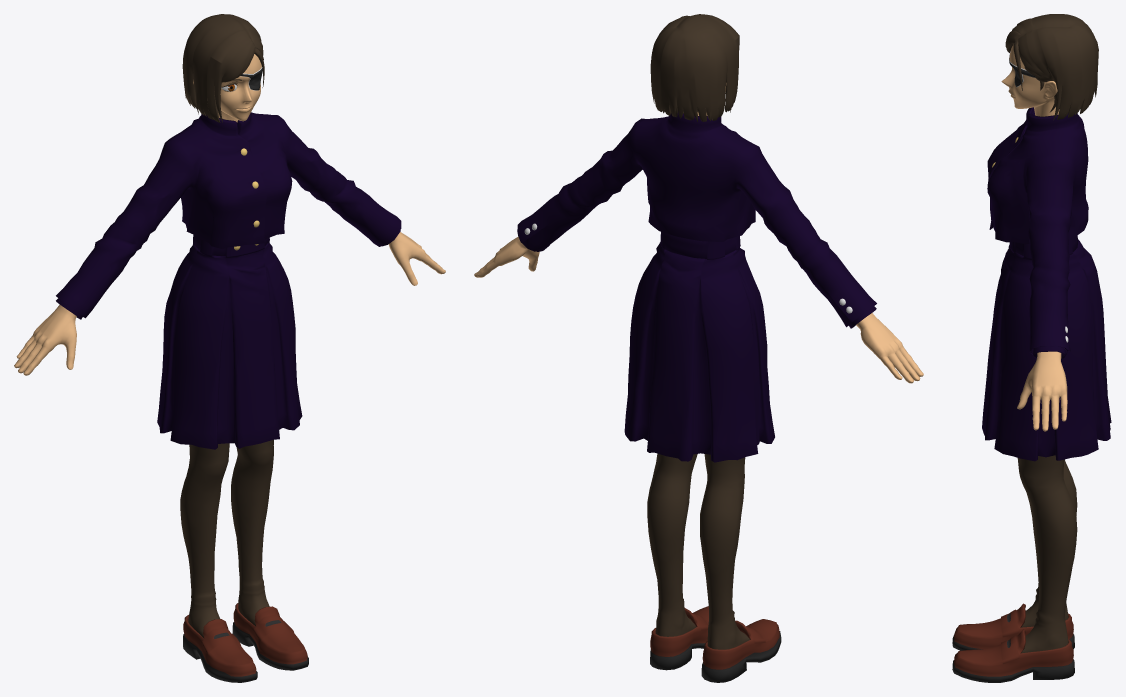
The model's file is kugisaki.glb.
3 renders of one model, left to right at view 1: azimuth 30°, elevation 25°; view 2: azimuth 150°, elevation 25°; view 3: azimuth 270°, elevation 25°, orthographic. The views are drawn at different scales.
Visible parts, largest first — view 1: body; view 2: body; view 3: body.
Part boxes in pixels (box(x1,y1,x2,y2)): body: box(14, 14, 445, 682); body: box(474, 14, 923, 682); body: box(952, 14, 1111, 682).
Size of the model in its own units: 54.45 by 76.31 by 17.12.
Materials: 10 (1 with a texture image).
